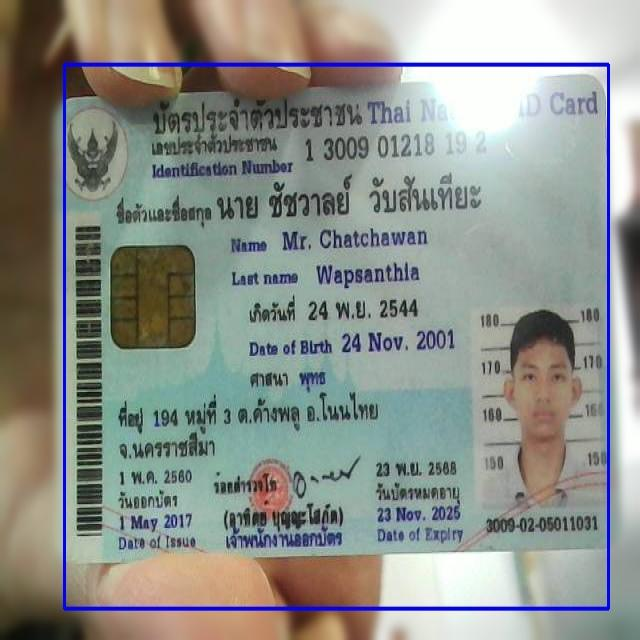Address_th: (111, 392, 387, 462)
Date_of_Birth: (339, 325, 458, 359)
Date_of_Expiry: (375, 504, 463, 526)
Date_of_Issue: (112, 510, 197, 533)
First_Name: (279, 224, 430, 254)
ID_Number: (302, 128, 492, 166)
Image: (472, 307, 607, 512)
Last_Name: (312, 259, 424, 290)
Thai_Name: (211, 172, 483, 226)
